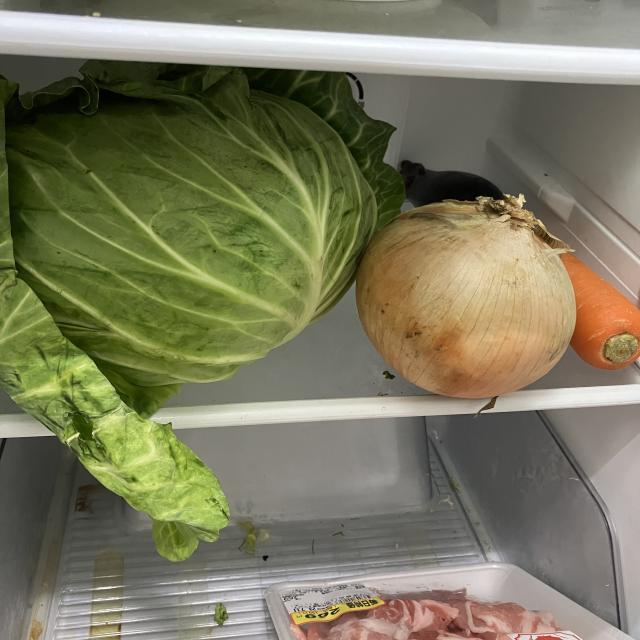cabbage: (1, 59, 411, 568)
carrot: (550, 244, 640, 376)
eggplant: (401, 159, 512, 213)
onion: (355, 191, 579, 415)
